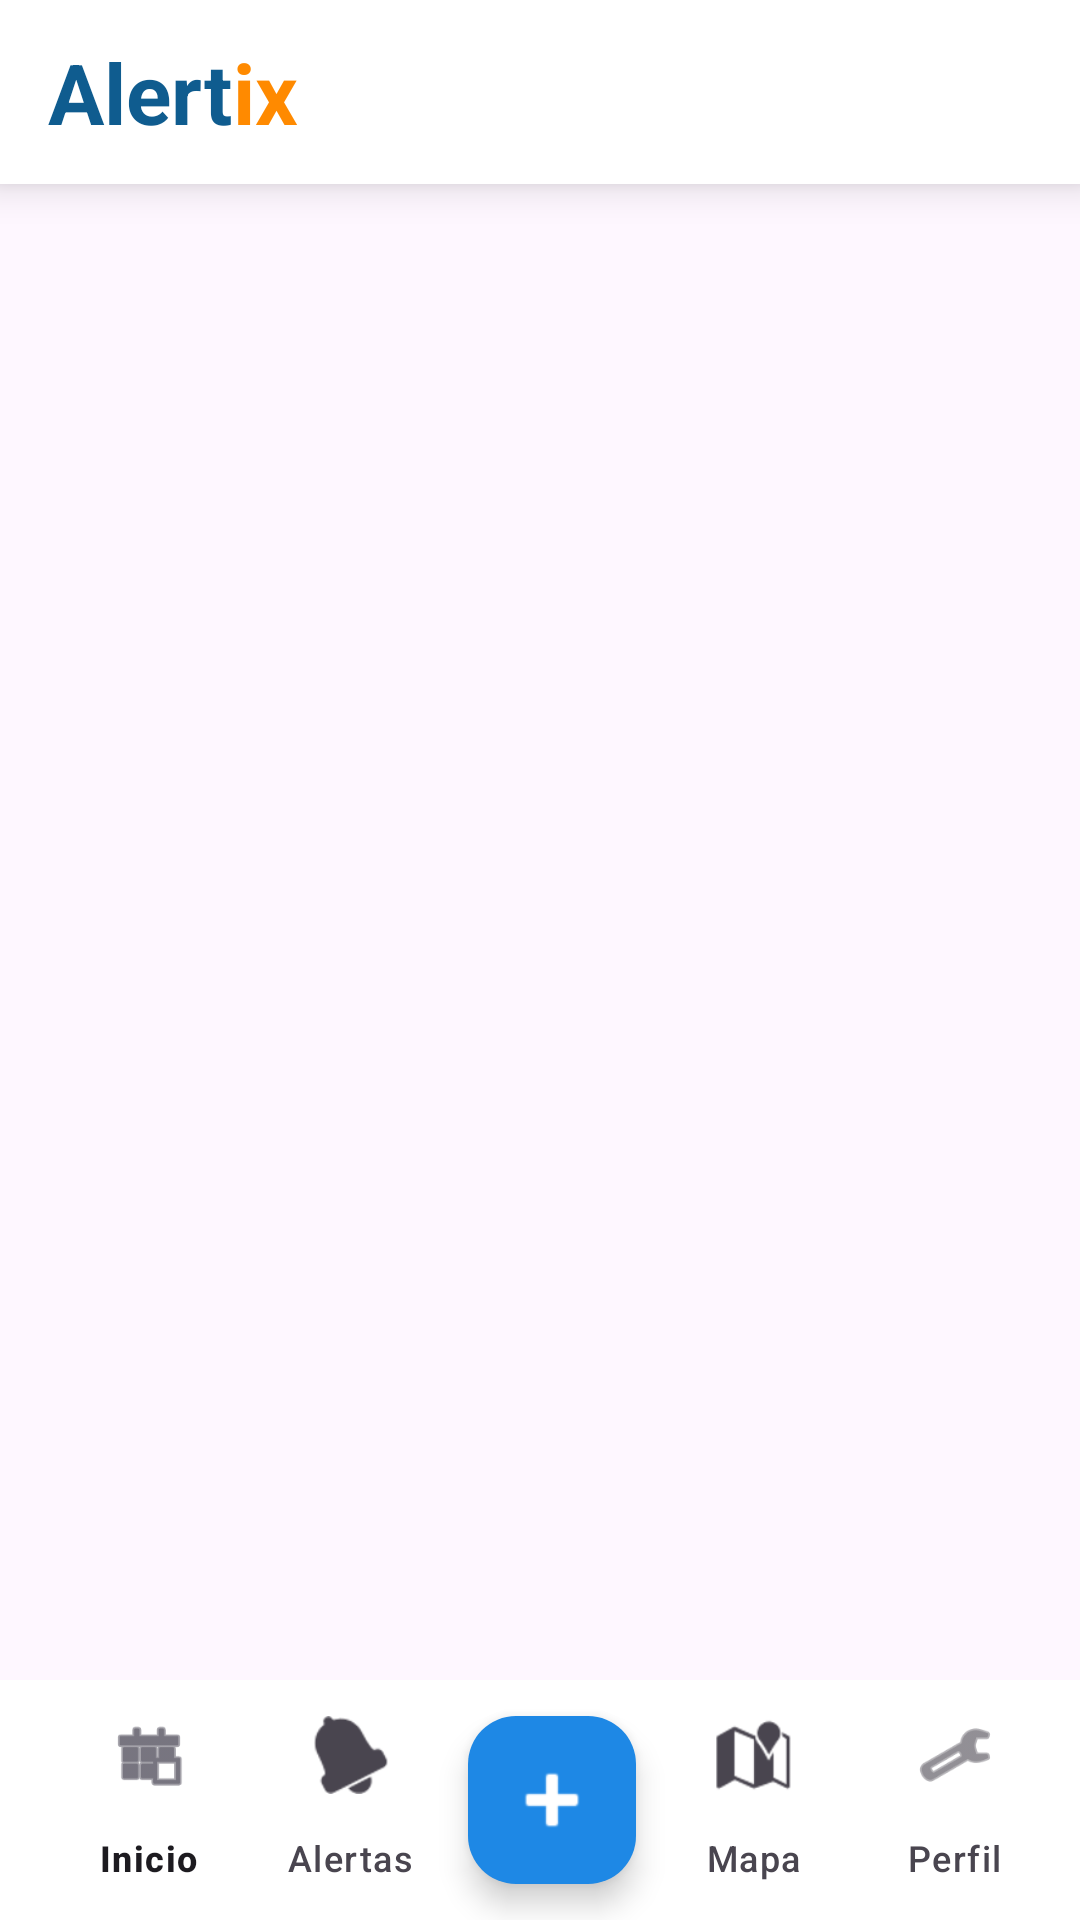

Where to tap for icons on this 1080×1920 app screen, as (x,y):
Agregar: (552,1800)
